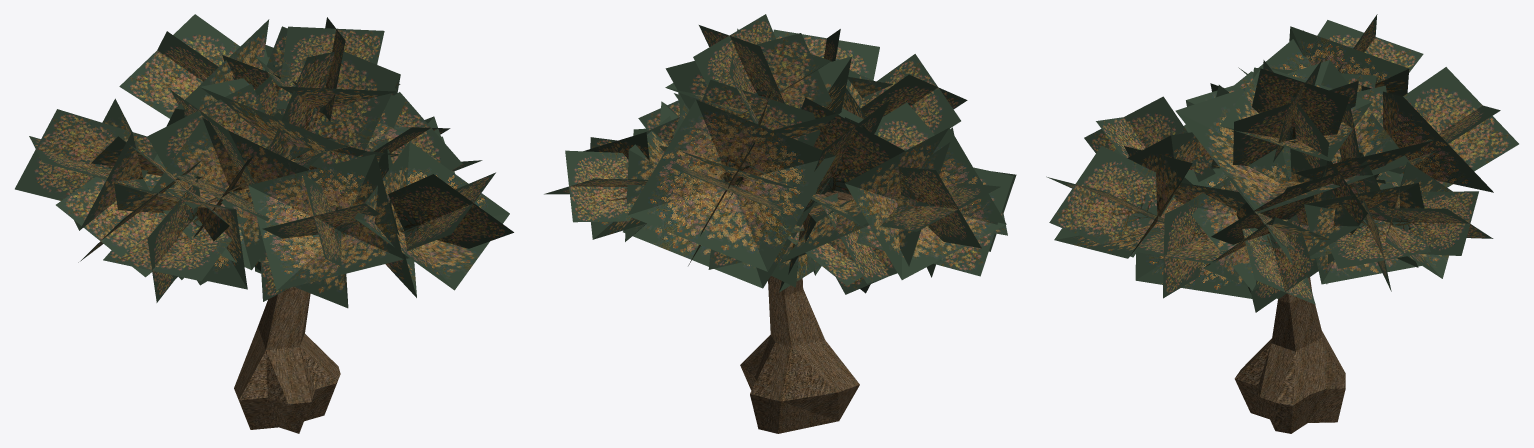
Rendered from decd_oaktreeleaves_a1_l1.fbx.
3 renders of one model, left to right at view 1: azimuth 30°, elevation 25°; view 2: azimuth 150°, elevation 25°; view 3: azimuth 270°, elevation 25°, orthographic. The views are drawn at different scales.
Parts seen in each view (by area): view 1: mesh_node; view 2: mesh_node; view 3: mesh_node.
Part boxes in pixels (x1,y1,x2,y2): mesh_node: (15,14,513,433); mesh_node: (544,14,1016,433); mesh_node: (1046,14,1518,433).
Bounding box in the file's own units: 34.15 × 30.15 × 35.08.
Materials: 3 (3 with a texture image).
